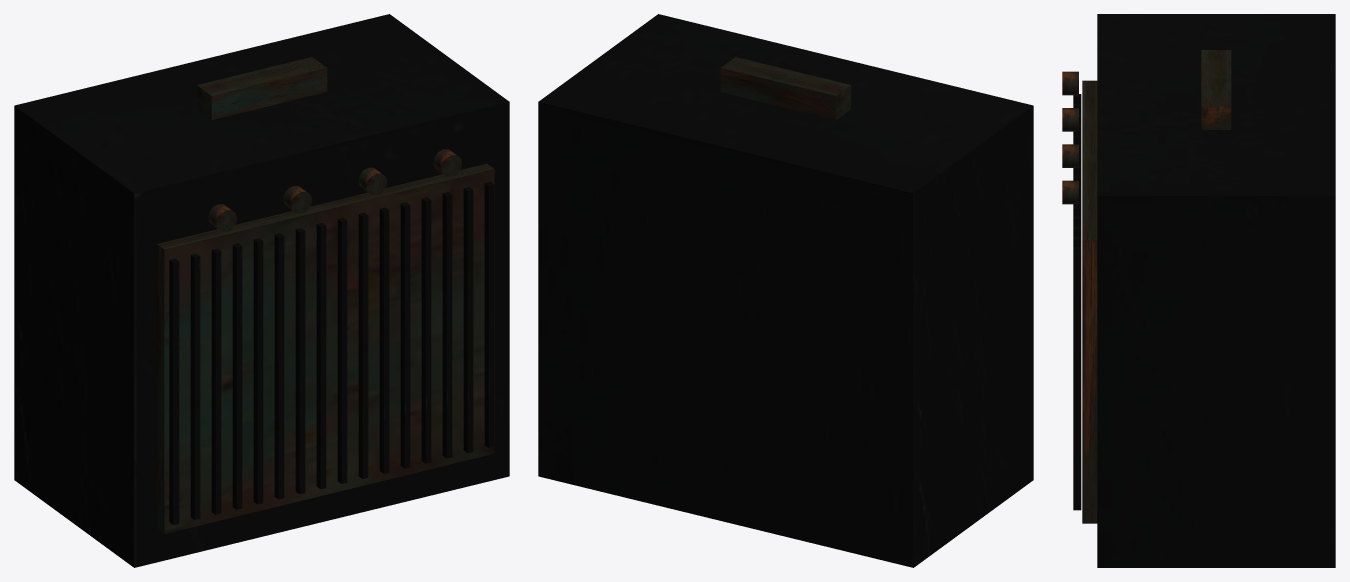
The model's file is loose_amp.glb.
The picture shows the model from 3 angles, left to right: view 1: azimuth 30°, elevation 25°; view 2: azimuth 150°, elevation 25°; view 3: azimuth 270°, elevation 25°; orthographic projection.
Visible parts, largest first — view 1: SplitCabinet, SpeakerGrille, CarryHandle, _MeshInstance3D_39810, _MeshInstance3D_39806, _MeshInstance3D_39808, _MeshInstance3D_39813, _MeshInstance3D_39817, GrilleSlat, _MeshInstance3D_39805, _MeshInstance3D_39809, _MeshInstance3D_39812 (+8 smaller); view 2: SplitCabinet, CarryHandle; view 3: SplitCabinet, SpeakerGrille, CarryHandle, _MeshInstance3D_39819, DustyKnob, _MeshInstance3D_39822, _MeshInstance3D_39820, _MeshInstance3D_39821.
Part boxes in pixels (x1,y1,x2,y2): SplitCabinet: (14, 14, 509, 567); SpeakerGrille: (157, 163, 494, 534); CarryHandle: (196, 57, 327, 119); _MeshInstance3D_39810: (295, 228, 305, 494); _MeshInstance3D_39806: (211, 248, 221, 514); _MeshInstance3D_39808: (253, 238, 263, 504); _MeshInstance3D_39813: (358, 212, 368, 478); _MeshInstance3D_39817: (442, 192, 452, 458); GrilleSlat: (169, 258, 179, 524); _MeshInstance3D_39805: (190, 253, 200, 519); _MeshInstance3D_39809: (274, 233, 284, 499); _MeshInstance3D_39812: (337, 217, 347, 483); SplitCabinet: (538, 14, 1033, 567); CarryHandle: (720, 57, 851, 119); SplitCabinet: (1097, 14, 1335, 567); SpeakerGrille: (1082, 80, 1097, 523); CarryHandle: (1201, 50, 1231, 129); _MeshInstance3D_39819: (1073, 247, 1081, 510); DustyKnob: (1062, 71, 1078, 95); _MeshInstance3D_39822: (1062, 180, 1078, 204); _MeshInstance3D_39820: (1062, 108, 1078, 131); _MeshInstance3D_39821: (1062, 144, 1078, 167).
Size of the model in its own units: 0.65 by 0.665 by 0.4125.
Materials: 18 (18 with a texture image).
